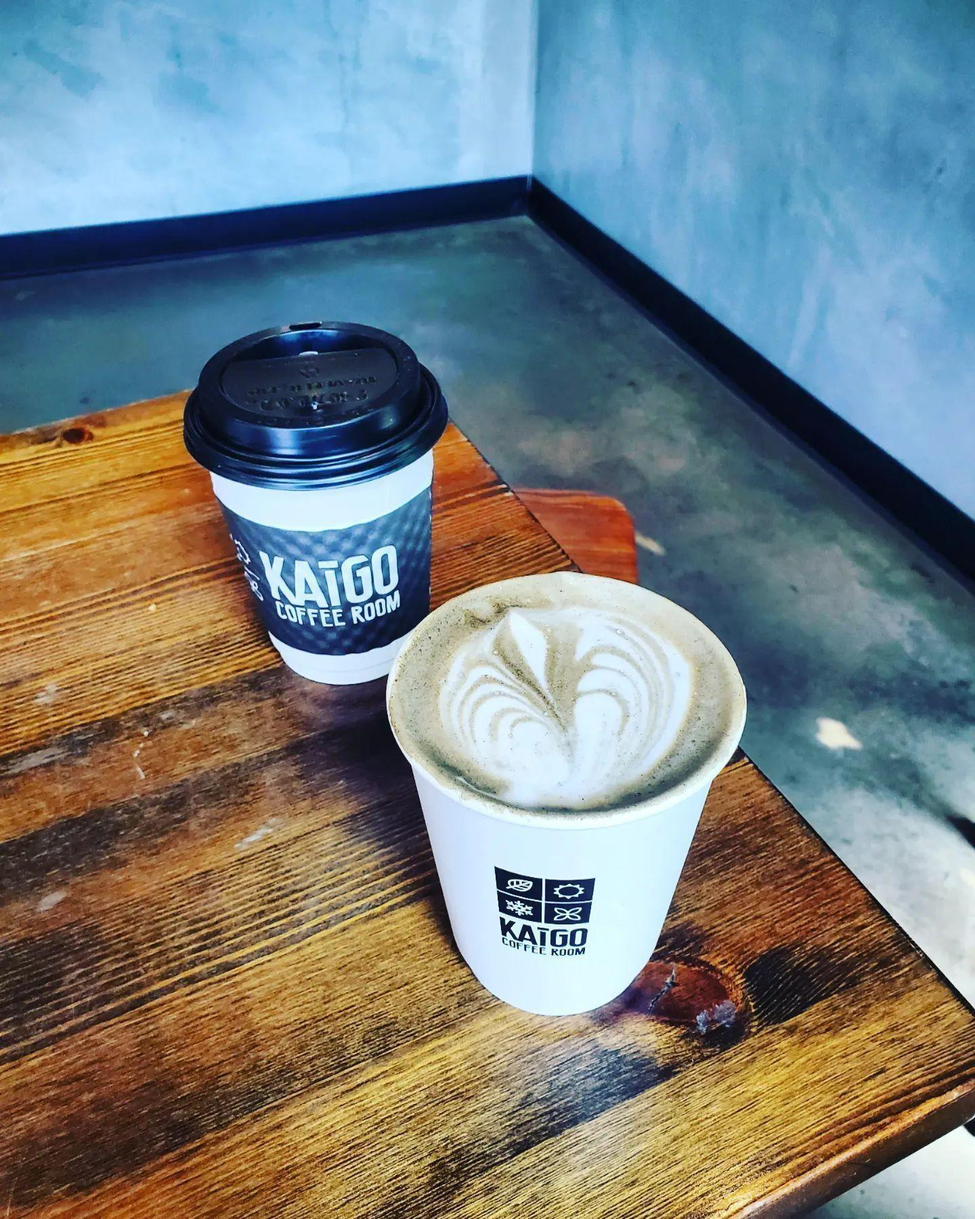cup-disposable: (373, 567, 754, 1027), (179, 312, 446, 689)
